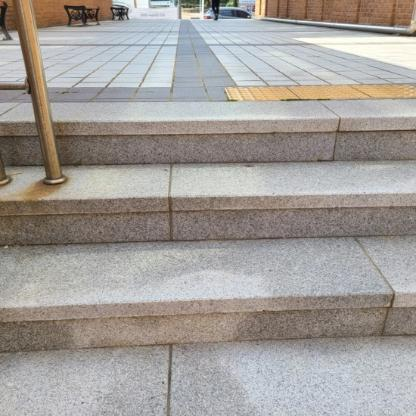stair: (0, 79, 416, 363)
